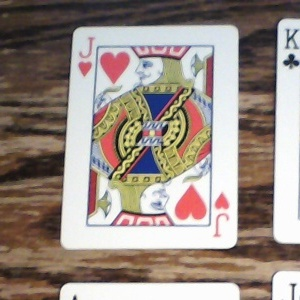card: (61, 25, 239, 250)
